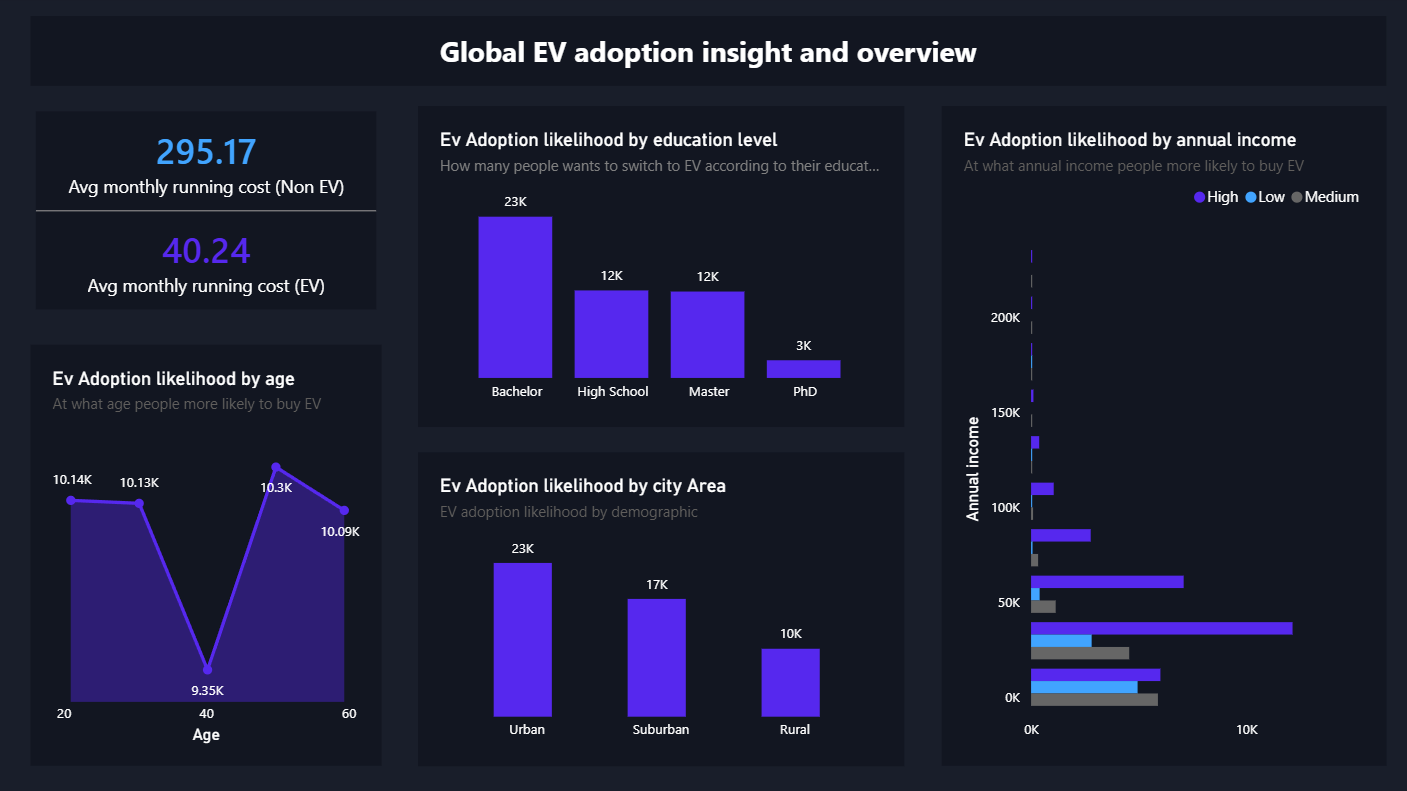

This screenshot's page, from the dashboard's own definition file:
{"tool":"powerbi","page":{"name":"Page 1","canvas":[1280,720],"ordinal":0},"visuals":[{"type":"clusteredColumnChart","title":"Ev Adoption likelihood by city Area","fields":{"Y":["CountNonNull(cleaned_dataset_global_ev_adoption_behavior_2026.ev_adoption_likelihood)"],"Category":["cleaned_dataset_global_ev_adoption_behavior_2026.city_type"]},"box":[379.9,412.7,439.8,283.8],"z":0},{"type":"clusteredColumnChart","title":"Ev Adoption likelihood by education level","fields":{"Category":["cleaned_dataset_global_ev_adoption_behavior_2026.education_level"],"Y":["CountNonNull(cleaned_dataset_global_ev_adoption_behavior_2026.ev_adoption_likelihood)"]},"box":[379.9,99.5,439.8,290.6],"z":1000},{"type":"cardVisual","fields":{"Data":["Avg(cleaned_dataset_global_ev_adoption_behavior_2026.fuel_expense_per_month)","Avg(cleaned_dataset_global_ev_adoption_behavior_2026.monthly_charging_cost)"]},"box":[29.2,99.4,318,190.6],"z":2000},{"type":"areaChart","title":"Ev Adoption likelihood by age","fields":{"Category":["cleaned_dataset_global_ev_adoption_behavior_2026.age (bins)"],"Y":["CountNonNull(cleaned_dataset_global_ev_adoption_behavior_2026.ev_adoption_likelihood)"]},"box":[29.4,315.5,317.7,381],"z":3000},{"type":"clusteredBarChart","title":"Ev Adoption likelihood by annual income","fields":{"Category":["cleaned_dataset_global_ev_adoption_behavior_2026.annual_income (bins)"],"Series":["cleaned_dataset_global_ev_adoption_behavior_2026.ev_adoption_likelihood"],"Y":["CountNonNull(cleaned_dataset_global_ev_adoption_behavior_2026.ev_adoption_likelihood)"]},"box":[853.6,99.5,402.5,597],"z":4000},{"type":"actionButton","box":[29.2,17.5,1226.5,63.1],"z":5000}]}

Visuals, with their boxes in screenshot pixels (x1, y1, x2, y2), scaled from the page's 1280x720 canvas onto the 1407x791 screenshot:
"Ev Adoption likelihood by city Area" clusteredColumnChart: <bbox>418, 453, 901, 765</bbox>
"Ev Adoption likelihood by education level" clusteredColumnChart: <bbox>418, 109, 901, 429</bbox>
cardVisual - Avg(cleaned_dataset_global_ev_adoption_behavior_2026.fuel_expense_per_month) x Avg(cleaned_dataset_global_ev_adoption_behavior_2026.monthly_charging_cost): <bbox>32, 109, 382, 319</bbox>
"Ev Adoption likelihood by age" areaChart: <bbox>32, 347, 382, 765</bbox>
"Ev Adoption likelihood by annual income" clusteredBarChart: <bbox>938, 109, 1381, 765</bbox>
actionButton: <bbox>32, 19, 1380, 89</bbox>
